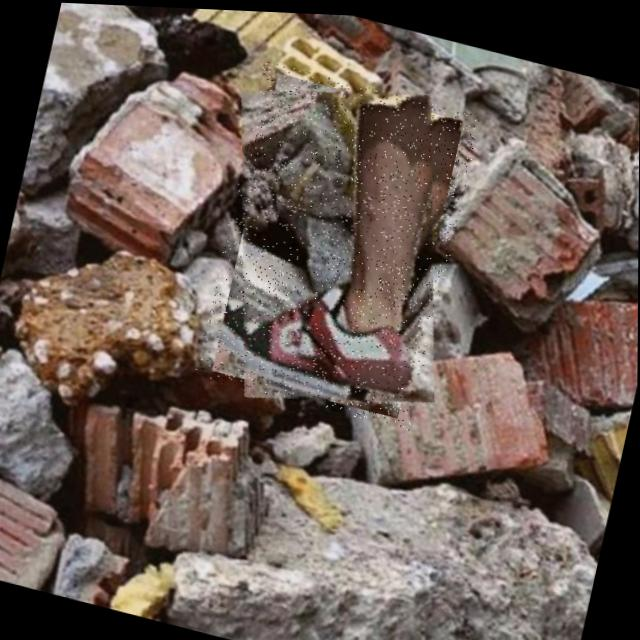Person in Rubble: (194, 55, 481, 429)
